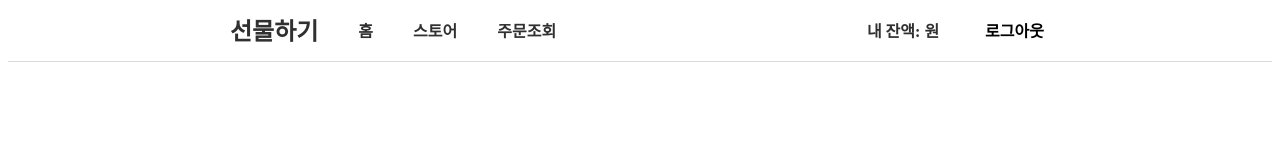
Test: Header › 로그인 했을 때 › 로그아웃 버튼을 클릭하면 › 로그인 버튼과 회원가입 버튼이 보인다
Click the button "로그아웃" at coordinates (1015, 30), box [979,16,1050,42]
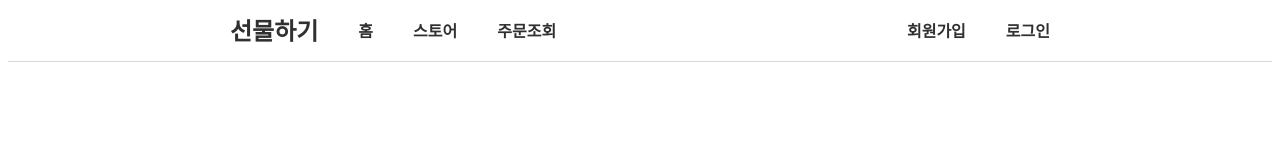
Expected: the link "로그인" is shown, [1006,22,1050,40]
Expected: the link "회원가입" is shown, [907,22,966,40]
